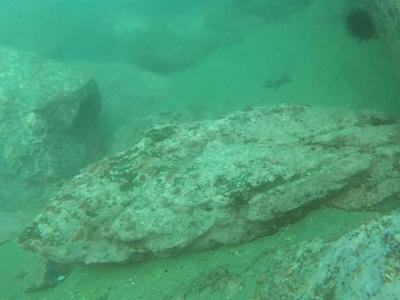urchin: (348, 11, 380, 42)
